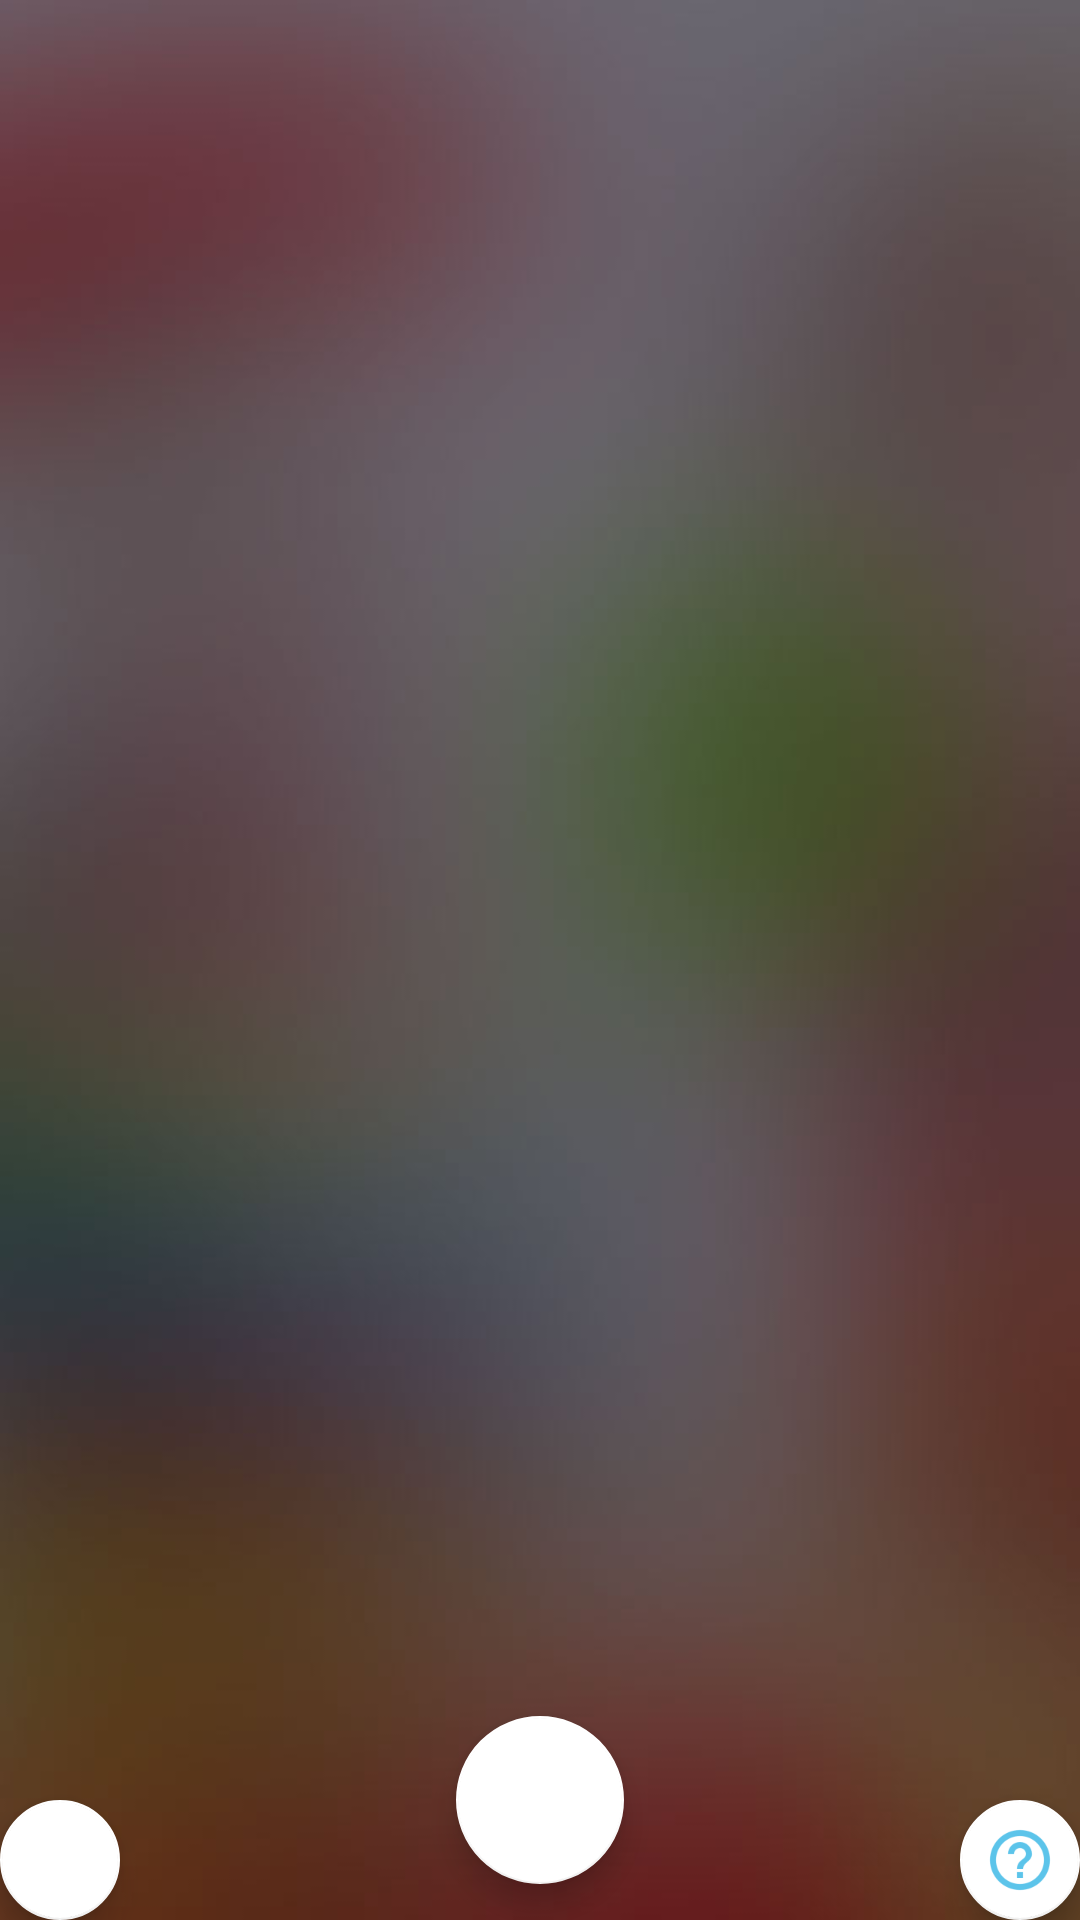

Locate icon controls on the screen. Image size 1080*1920, boxes as [x1,y1,x2,y2].
help: [960,1800,1080,1920]
